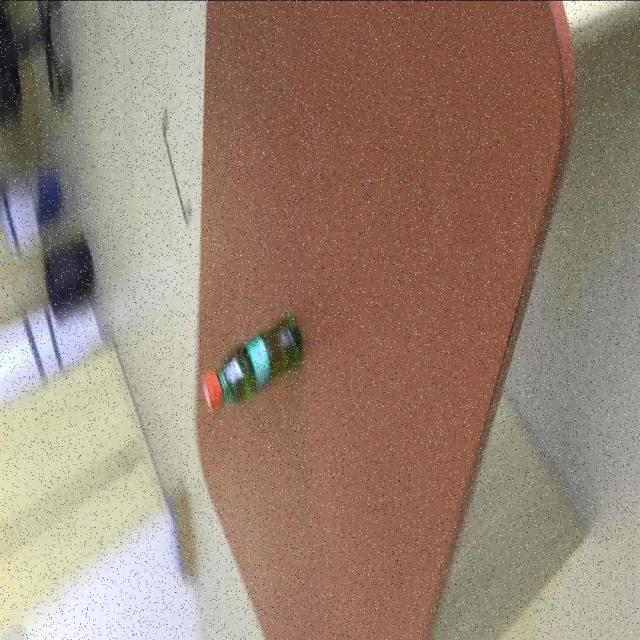Guarana: (201, 313, 303, 417)
